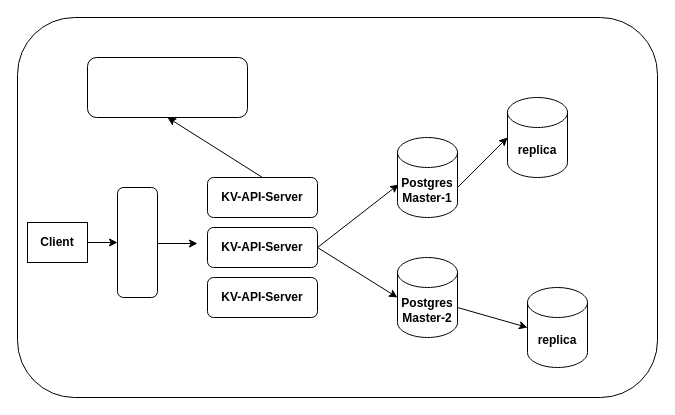
Some shapes in this 675 by 415 pixel diagram are drawn without their labels. Here are the shapes that lost their labels. From the top down, the box of each, then its label:
(86, 56, 248, 118): Zookeeper/ConfigStore (Keeps masters+replicas info, DB topology)
(116, 186, 158, 298): LB
